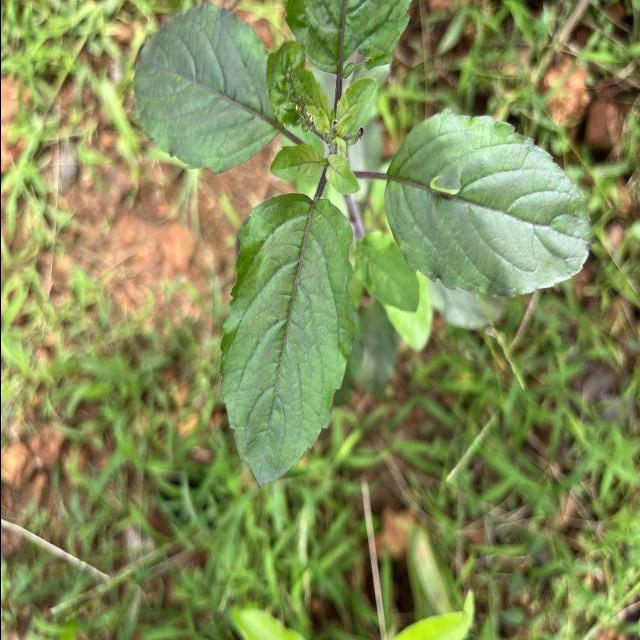Ocimum tenuiflorum: (214, 188, 360, 493), (376, 101, 596, 302)
